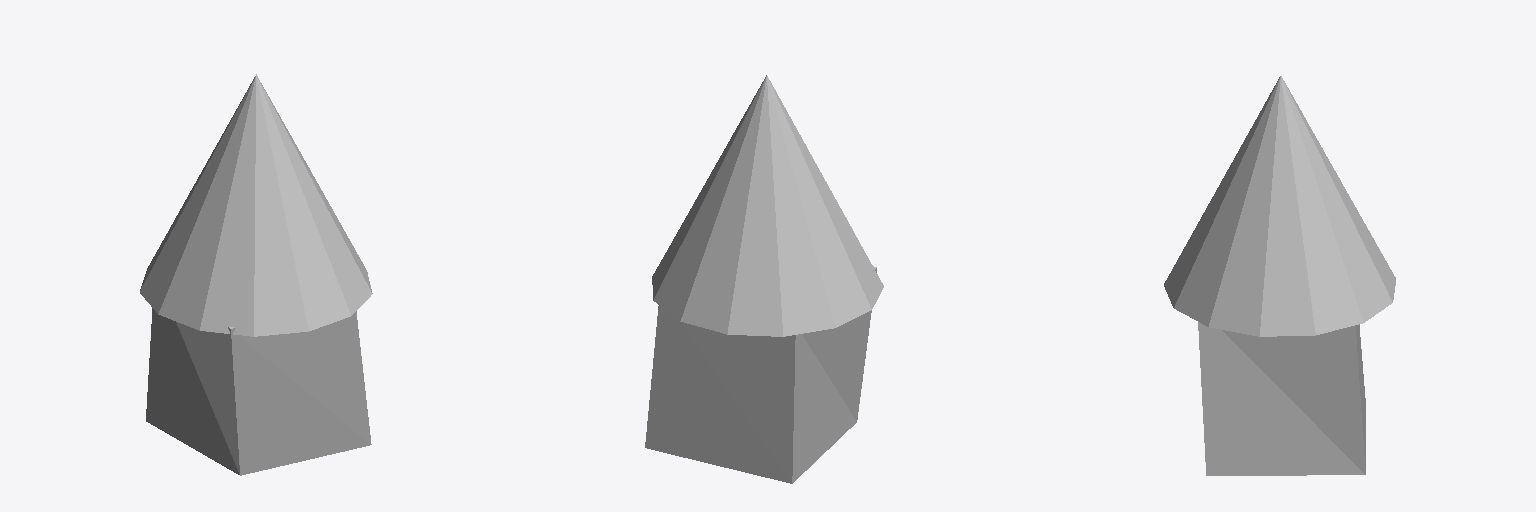
File: hutte.obj
The picture shows the model from 3 angles: view 1: azimuth 30°, elevation 25°; view 2: azimuth 150°, elevation 25°; view 3: azimuth 270°, elevation 25°; orthographic projection.
Visible parts, largest first — view 1: Cone, Cube_Cube.001; view 2: Cone, Cube_Cube.001; view 3: Cone, Cube_Cube.001.
Boxes of the visible parts, <box> form: Cone: <box>140,74,372,336</box>; Cube_Cube.001: <box>146,308,371,475</box>; Cone: <box>652,75,883,336</box>; Cube_Cube.001: <box>645,266,876,483</box>; Cone: <box>1164,76,1395,336</box>; Cube_Cube.001: <box>1198,322,1365,475</box>.
Bounding box in the file's own units: 1.98 × 3.4 × 1.98.